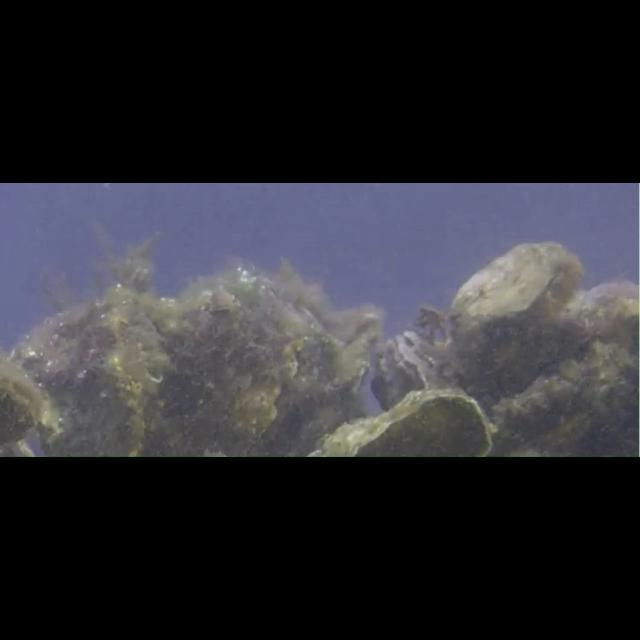Oyster-Closed: (444, 240, 582, 358), (306, 388, 494, 460), (375, 329, 443, 411)
